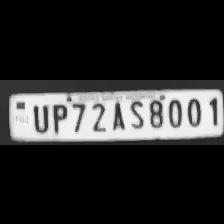0: (164, 96, 184, 128), (183, 95, 203, 127)
1: (206, 95, 223, 127)
2: (86, 99, 106, 133)
7: (68, 99, 88, 133)
8: (146, 96, 166, 128)
A: (106, 99, 126, 131)
P: (48, 100, 68, 134)
S: (126, 97, 146, 130)
U: (28, 100, 50, 132)
